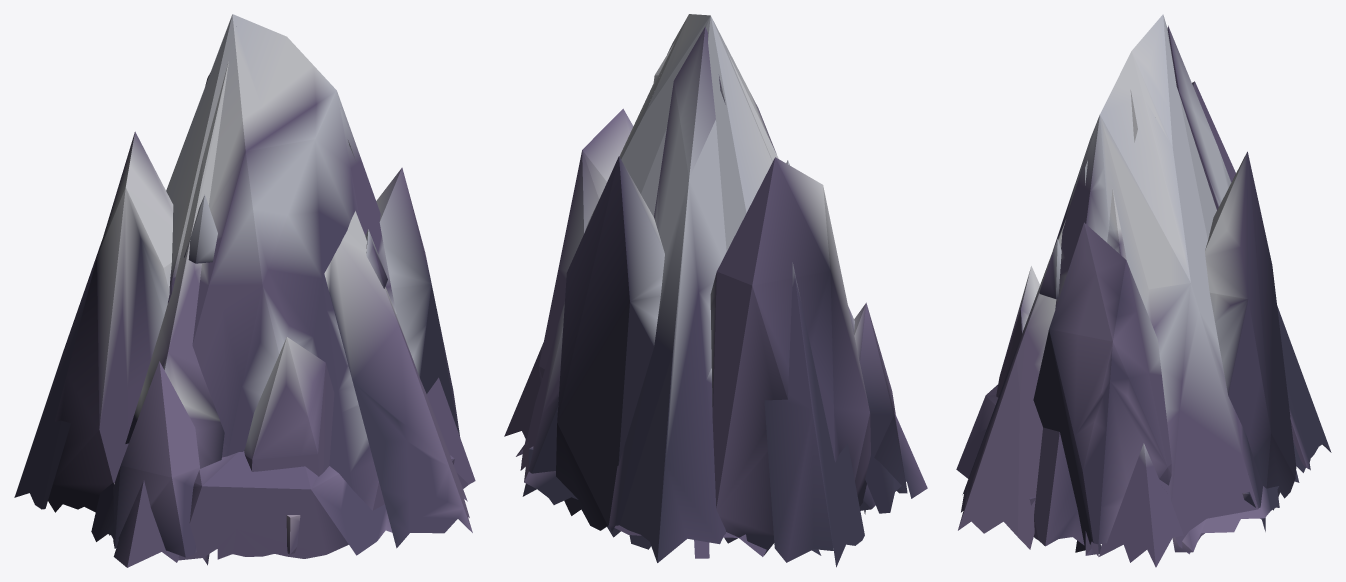
File: mtn_peak_a-lod1.glb
3 views of the same model, side by side, from view 1: azimuth 30°, elevation 25°; view 2: azimuth 150°, elevation 25°; view 3: azimuth 270°, elevation 25° (orthographic). The views are drawn at different scales.
Parts seen in each view (by area): view 1: mtn_peak_a; view 2: mtn_peak_a; view 3: mtn_peak_a.
Part boxes in pixels (x1,y1,x2,y2): mtn_peak_a: [14, 14, 475, 567]; mtn_peak_a: [504, 14, 927, 567]; mtn_peak_a: [956, 14, 1331, 567].
Bounding box in the file's own units: 80.21 × 96.65 × 71.17.
